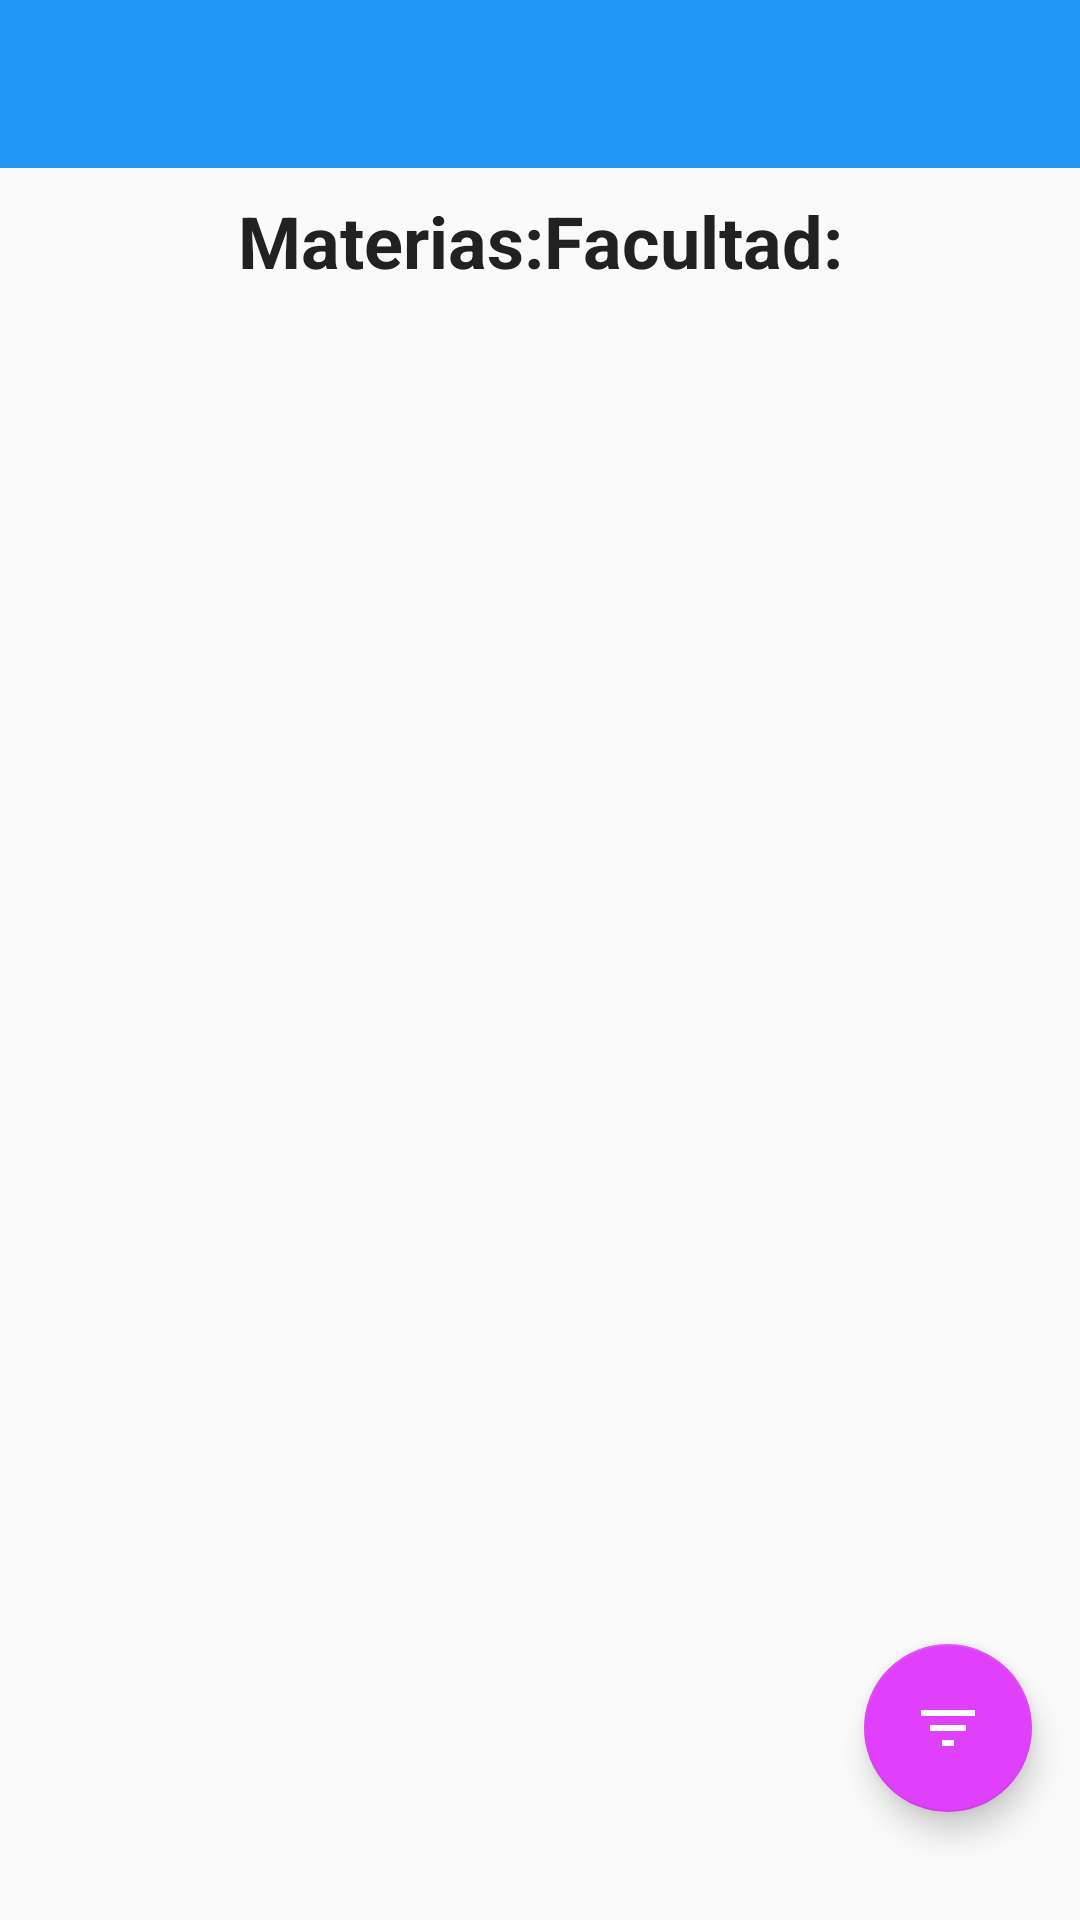

Named icons in this screenshot (1080x1920) and their bounding boxes, bbox=(x1, y1, x2, y2):
filter list: bbox=(864, 1644, 1032, 1812)
